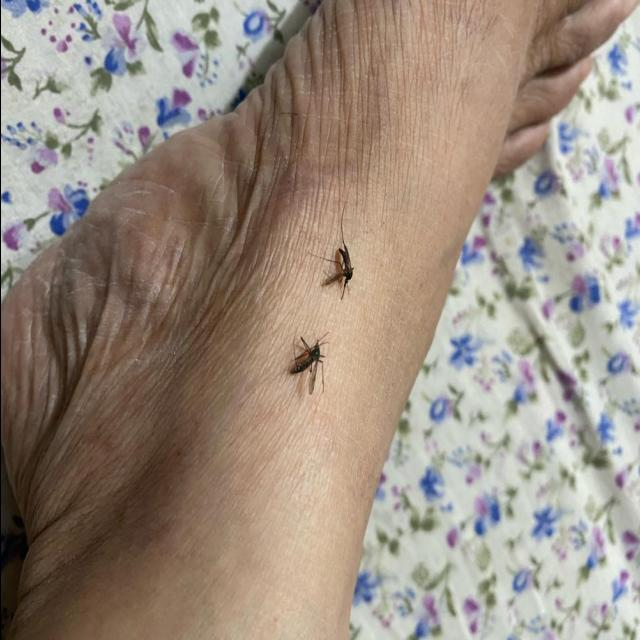Mosquito: (314, 232, 363, 302), (284, 326, 324, 398)
